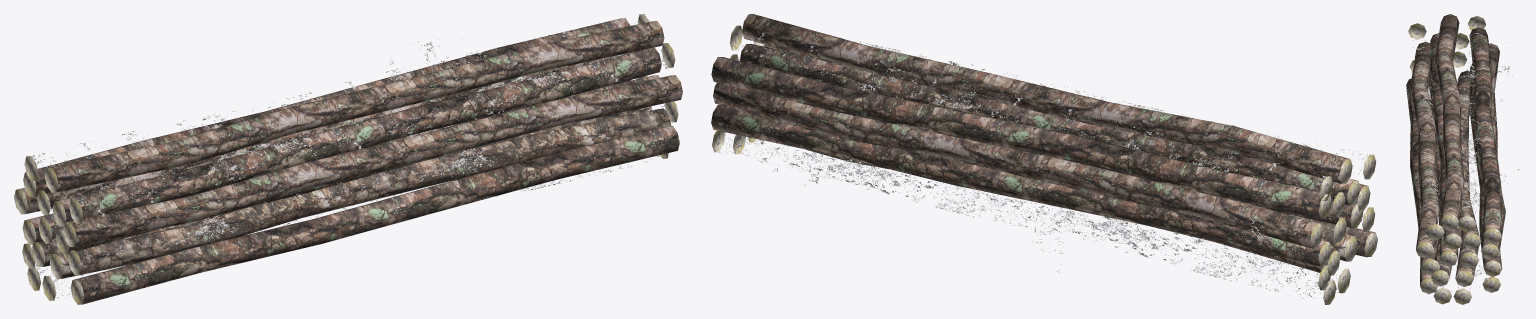
The model's file is Pile.fbx.
The picture shows the model from 3 angles, left to right: view 1: azimuth 30°, elevation 25°; view 2: azimuth 150°, elevation 25°; view 3: azimuth 270°, elevation 25°; orthographic projection. The views are drawn at different scales.
Visible parts, largest first — view 1: Pile; view 2: Pile; view 3: Pile.
Boxes of the visible parts, x1,y1,x2,y2 form: Pile: (14,14,682,304); Pile: (711,14,1377,304); Pile: (1406,14,1519,304).
Size of the model in its own units: 6.13 by 1.73 by 1.5.
